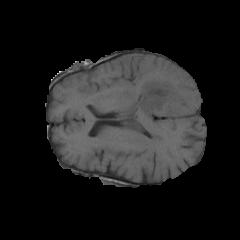glioma: (125, 77, 187, 119)
